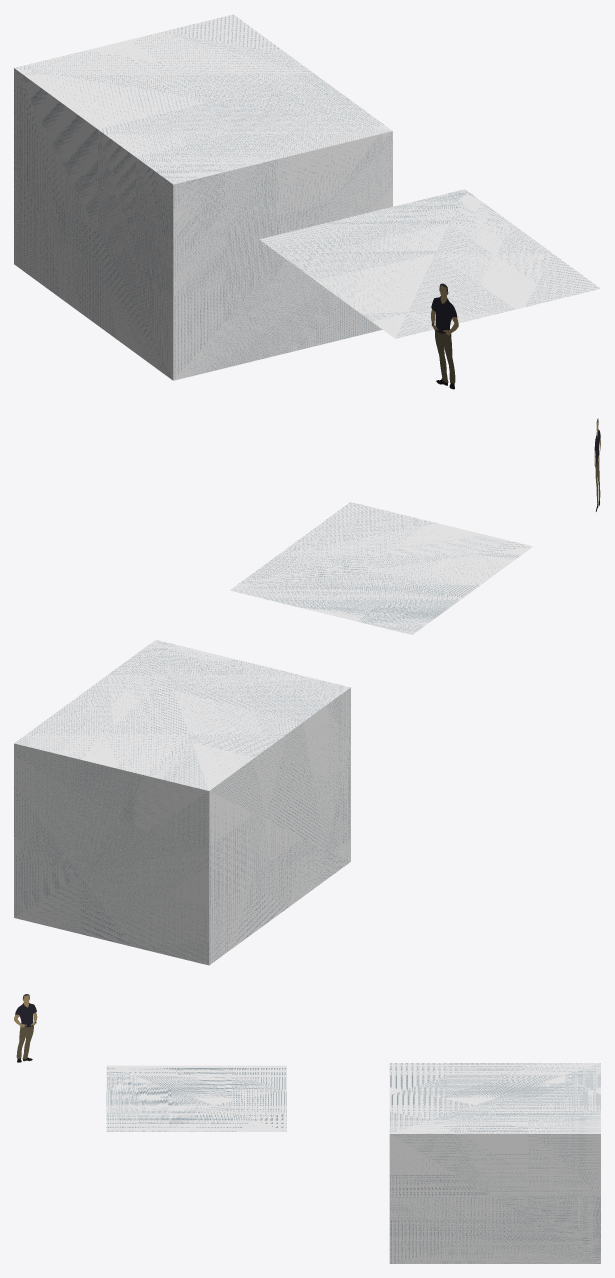
The picture shows the model from 3 angles, top to bottom: view 1: azimuth 30°, elevation 25°; view 2: azimuth 150°, elevation 25°; view 3: azimuth 270°, elevation 25°; orthographic projection. The views are drawn at different scales.
Visible parts, largest first — view 1: Mesh9 Model, Mesh8 Model, Mesh1 Chris1 Model; view 2: Mesh9 Model, Mesh8 Model; view 3: Mesh9 Model, Mesh8 Model, Mesh1 Chris1 Model.
Part boxes in pixels (<box>): Mesh9 Model: <box>14,14,392,380</box>; Mesh8 Model: <box>259,189,600,338</box>; Mesh1 Chris1 Model: <box>431,283,458,389</box>; Mesh9 Model: <box>14,640,350,965</box>; Mesh8 Model: <box>230,502,532,634</box>; Mesh9 Model: <box>389,1063,600,1263</box>; Mesh8 Model: <box>106,1065,286,1131</box>; Mesh1 Chris1 Model: <box>14,994,37,1062</box>.
Bounding box in the file's own units: 4.12 × 5.16 × 13.86.
